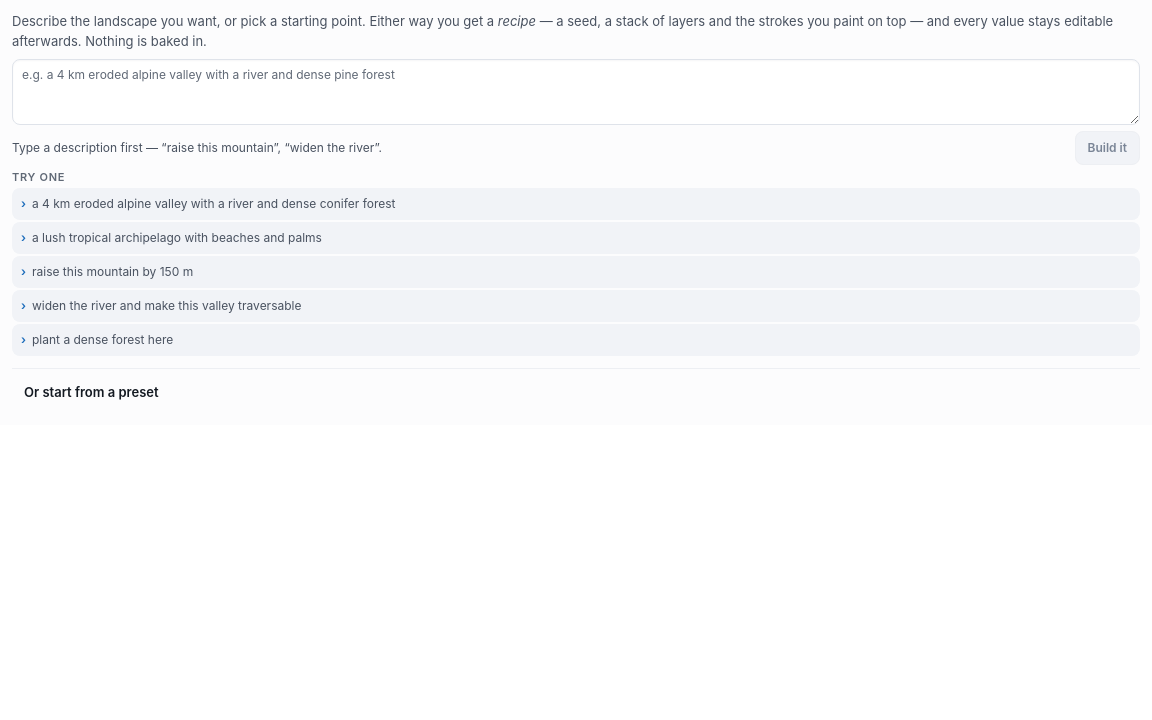
Test: a local edit shows the landform it resolved to and what it will rebuild
Replace the text in the text box with test id "terrain-describe-text" with "raise this mountain by 150 m" at (576, 92), box [12, 59, 1140, 125]
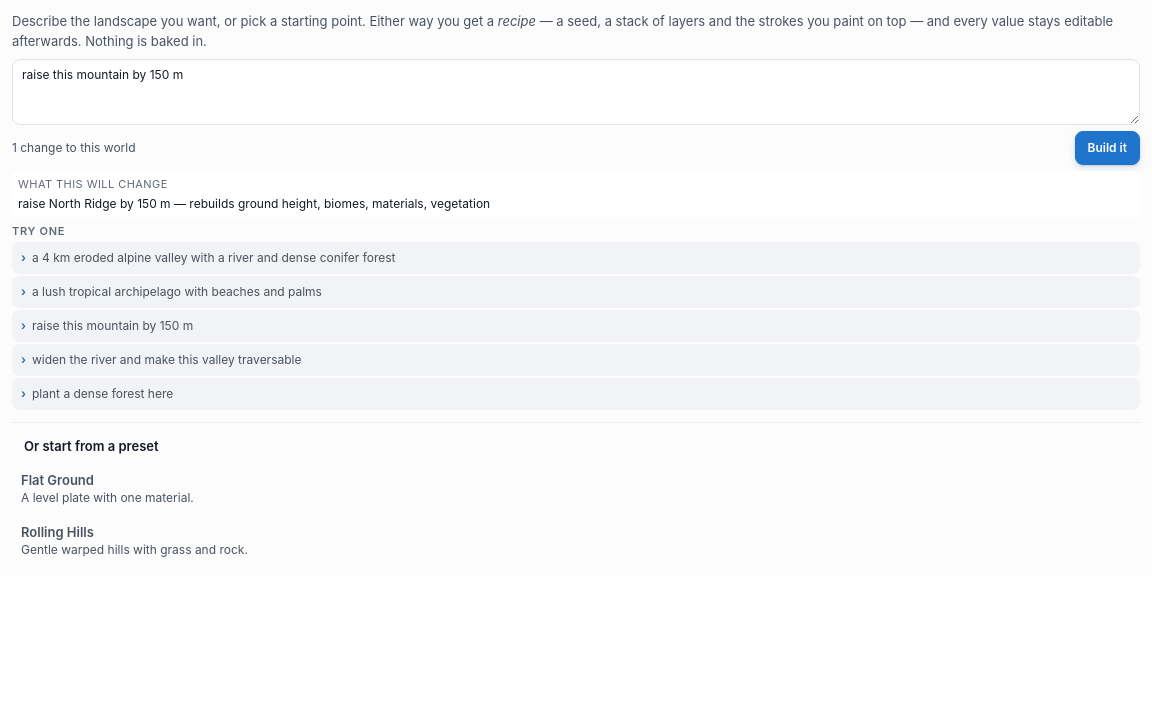
Expected: the element with test id "terrain-plan-step" shows "North Ridge", [18, 196, 490, 211]
Expected: the element with test id "terrain-plan-step" shows "150 m", [18, 196, 490, 211]
Expected: the element with test id "terrain-plan-step" shows "rebuilds", [18, 196, 490, 211]
